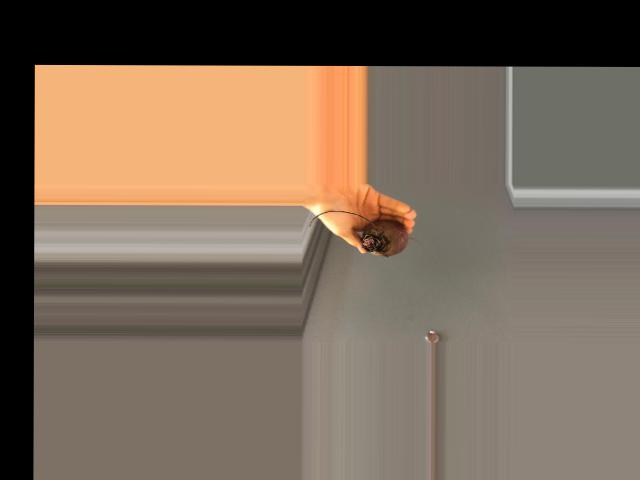beet: (309, 209, 420, 256)
